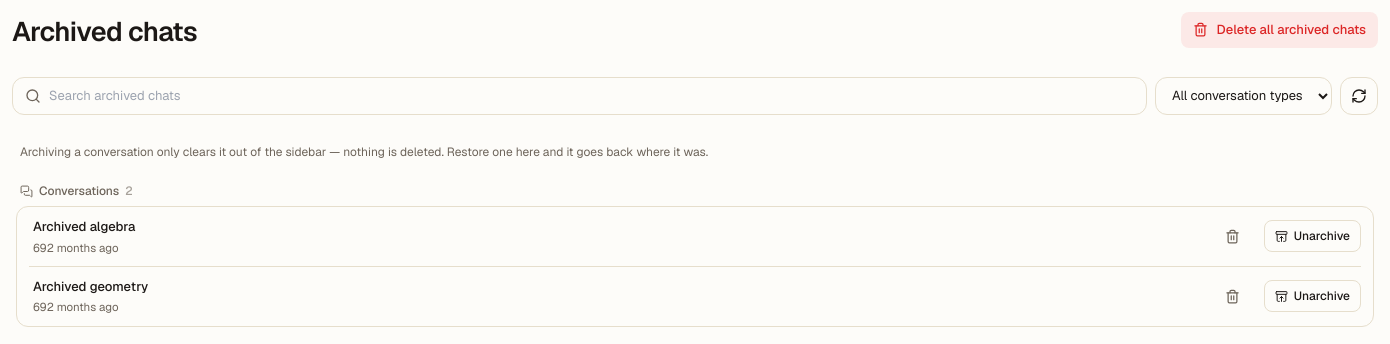
Test: searches archived chats and restores one without touching active conversations
This screenshot has width=1390, height=344.
Expected: the text "Archived algebra" is shown, 33,218 -> 135,235
Type "algebra" into the field labelled "Search archived chats" at (592, 96), box 49,86 -> 1134,105
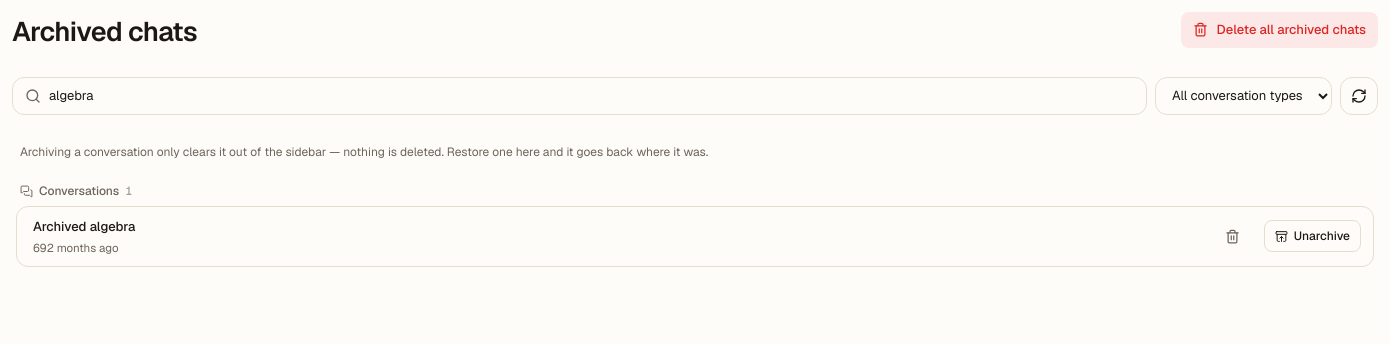
Expected: the button "Archived geometry" is gone
Click the button "Unarchive" at (1312, 236), box 1264,220 -> 1361,252
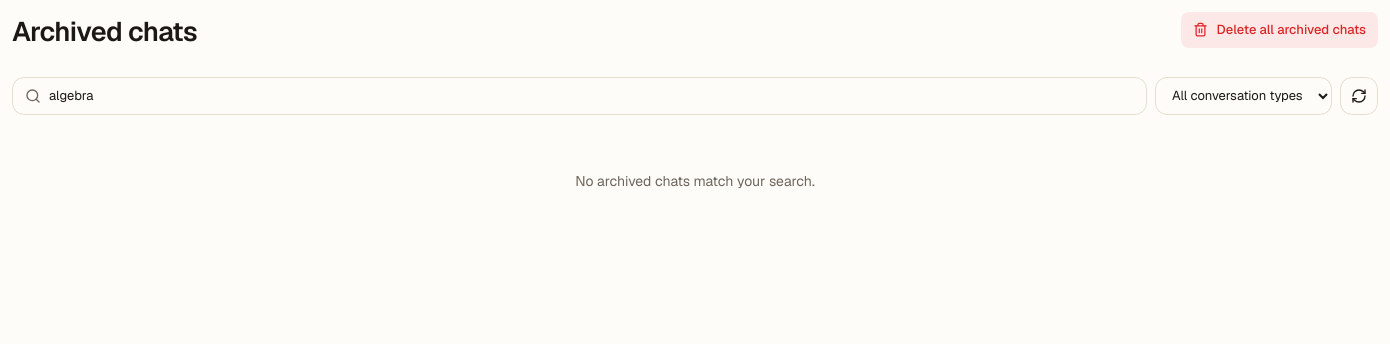
Expected: the text "No archived chats match your search." is shown, 575,172 -> 815,190
